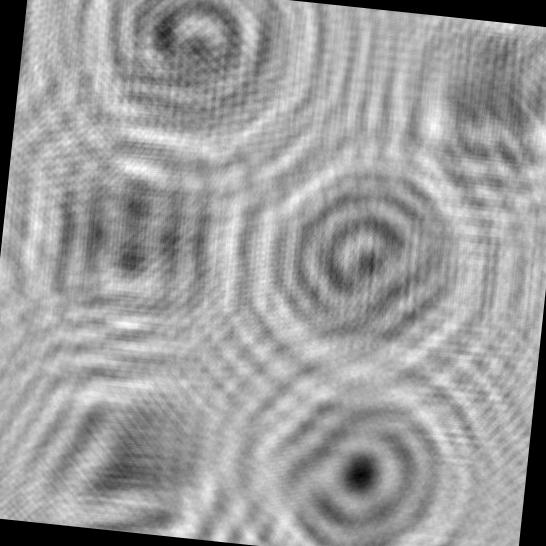D: (207, 98, 524, 414)
G: (45, 0, 349, 188)
H: (0, 93, 282, 377)
P: (206, 309, 525, 546)
T: (360, 10, 546, 237)
V: (0, 305, 284, 546)
